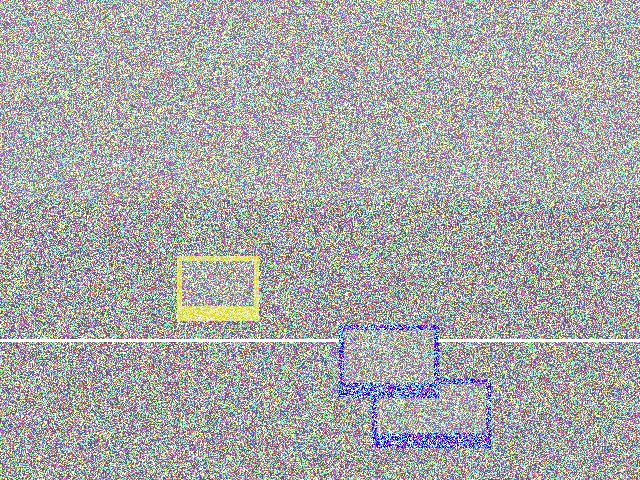motorcycle: (441, 127, 629, 224)
